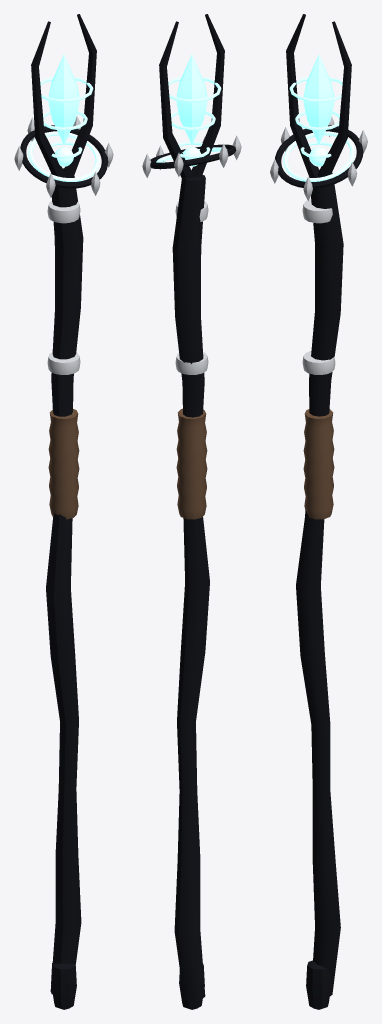
Rendered from esc_w_mage_staff_3.glb.
3 views of the same model, side by side, from view 1: azimuth 30°, elevation 25°; view 2: azimuth 210°, elevation 25°; view 3: azimuth 330°, elevation 25° (orthographic).
Visible parts, largest first — view 1: esc_w_mage_staff_3; view 2: esc_w_mage_staff_3; view 3: esc_w_mage_staff_3.
Part boxes in pixels (x1,y1,x2,y2): esc_w_mage_staff_3: (14,14,113,1009); esc_w_mage_staff_3: (142,14,241,1009); esc_w_mage_staff_3: (270,14,367,1009).
Size of the model in its own units: 0.179 by 1.96 by 0.1693.
